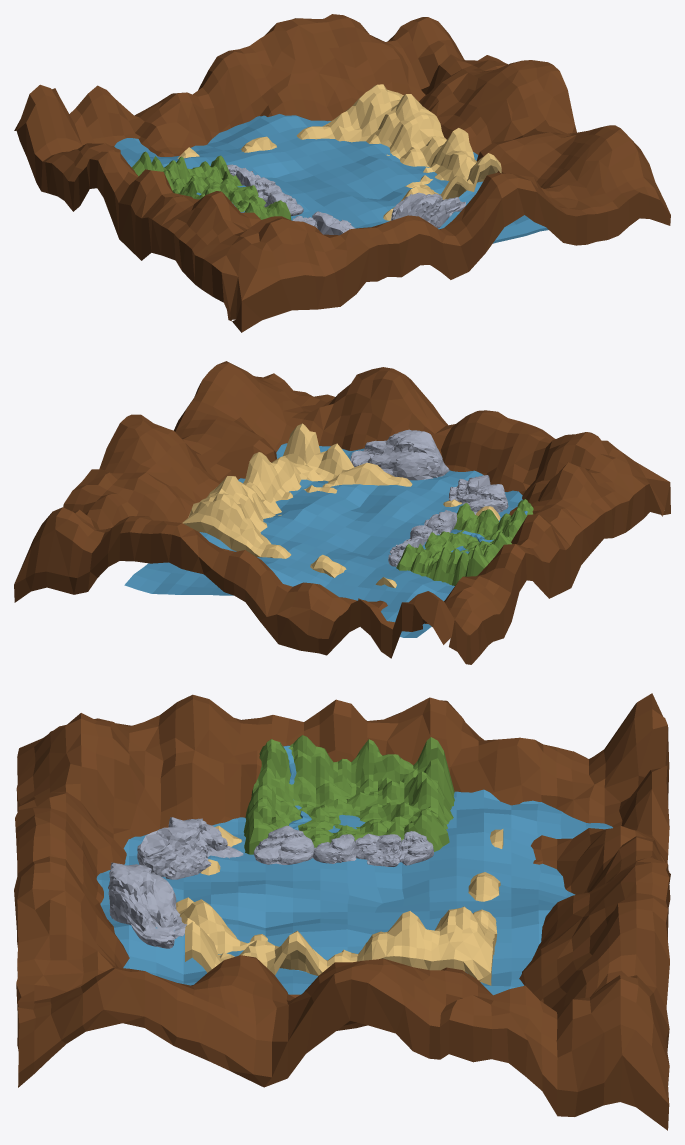
File: ENV_mountain_terrain2.Drew.fbx
3 renders of one model, top to bottom at view 1: azimuth 30°, elevation 25°; view 2: azimuth 150°, elevation 25°; view 3: azimuth 270°, elevation 25°, orthographic. The views are drawn at different scales.
Parts seen in each view (by area): view 1: env_mountain_terrain2; view 2: env_mountain_terrain2; view 3: env_mountain_terrain2.
Boxes of the visible parts, x1,y1,x2,y2 form: env_mountain_terrain2: (14,14,670,332); env_mountain_terrain2: (14,361,670,664); env_mountain_terrain2: (14,693,670,1130).
Size of the model in its own units: 61937 by 56994 by 15781.
